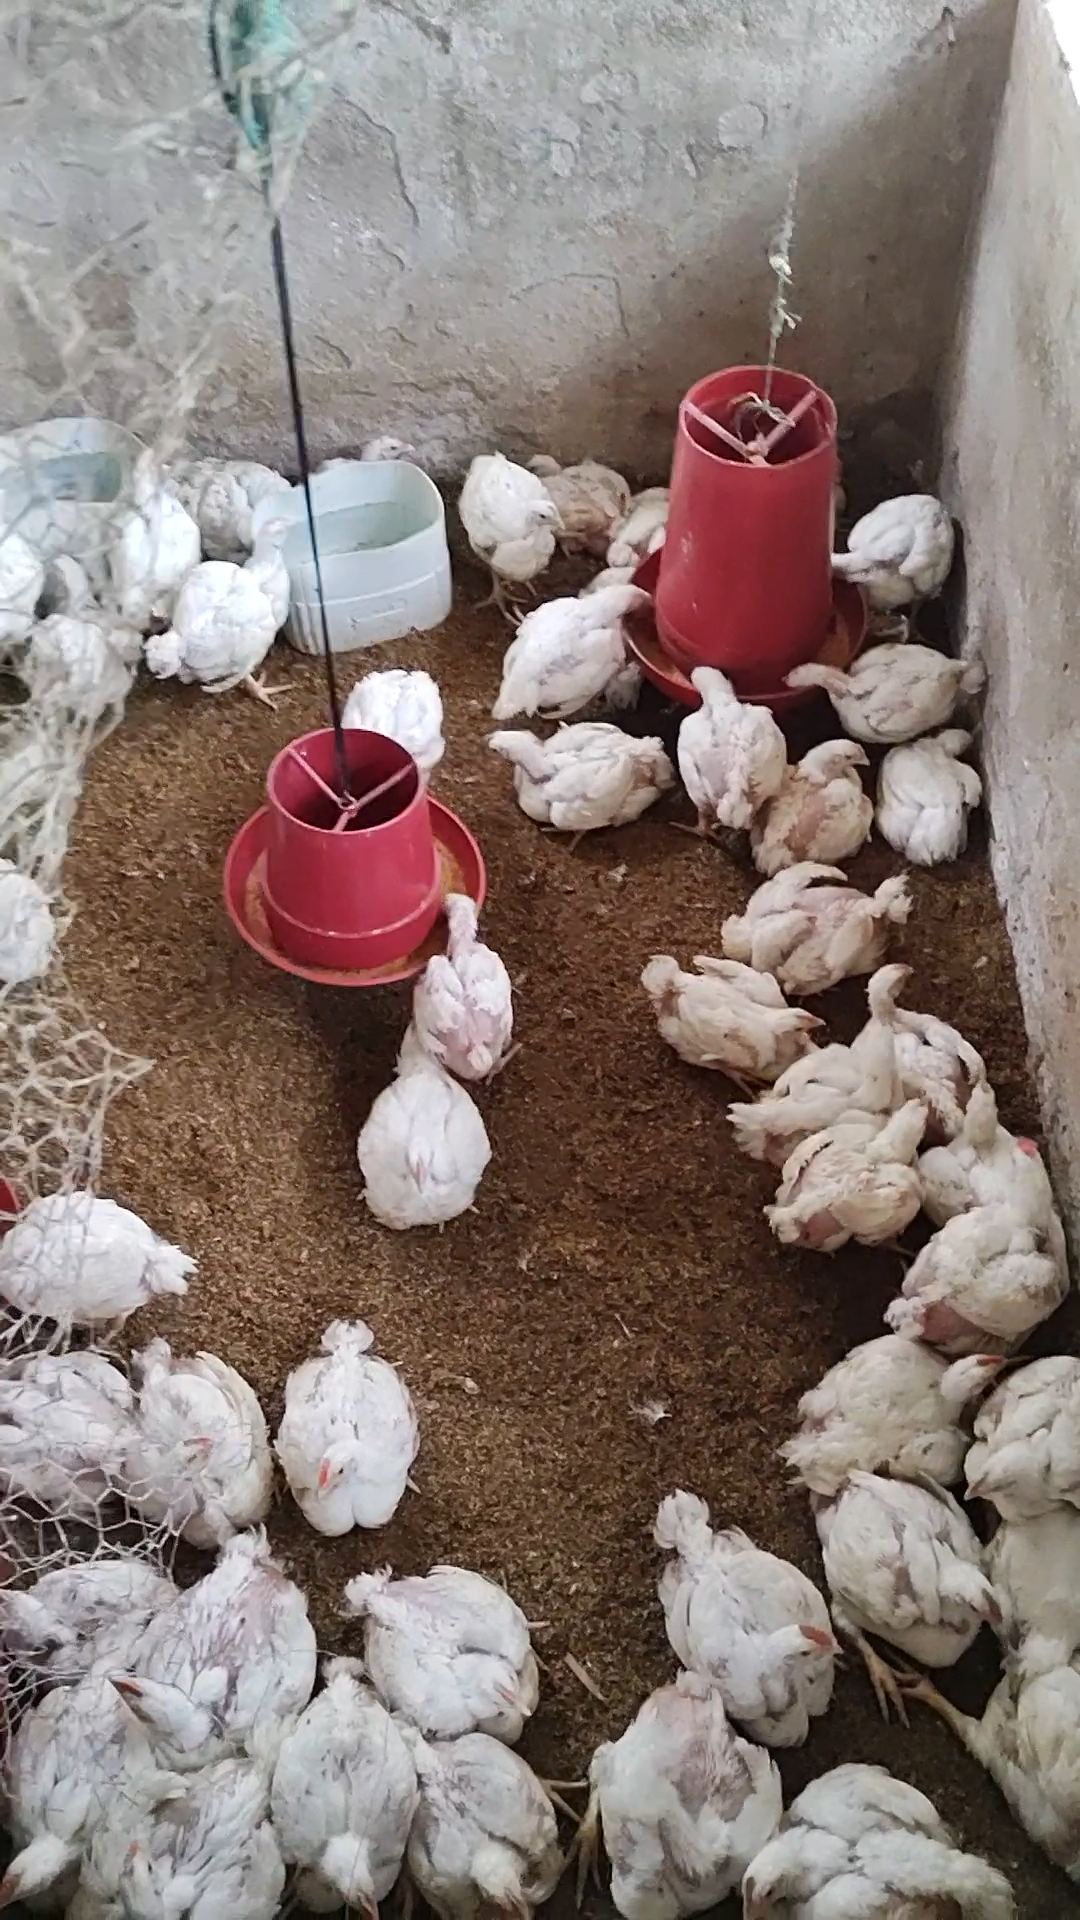Pollos: (636, 1489, 855, 1750), (104, 1538, 330, 1782), (578, 1668, 781, 1912), (377, 1692, 597, 1915), (1, 1647, 179, 1919), (265, 1662, 450, 1920), (746, 1753, 1029, 1917), (833, 1461, 1014, 1712), (335, 1030, 498, 1287), (332, 1544, 551, 1731), (266, 1315, 450, 1530), (123, 1337, 290, 1549), (777, 1325, 989, 1489), (142, 510, 294, 715), (713, 858, 899, 1023), (731, 1015, 923, 1171), (11, 1187, 204, 1337), (11, 1332, 162, 1523), (123, 1742, 285, 1920), (758, 1105, 938, 1261), (485, 575, 654, 732), (483, 711, 669, 851), (913, 1213, 1073, 1360), (781, 637, 986, 750), (855, 949, 992, 1116), (454, 436, 571, 628), (673, 659, 787, 855), (411, 884, 530, 1071), (651, 945, 808, 1085), (961, 1329, 1076, 1514), (932, 1072, 1071, 1222), (833, 475, 957, 636), (334, 641, 451, 796), (761, 738, 880, 884), (893, 717, 997, 874), (520, 448, 642, 549), (355, 436, 411, 472)
